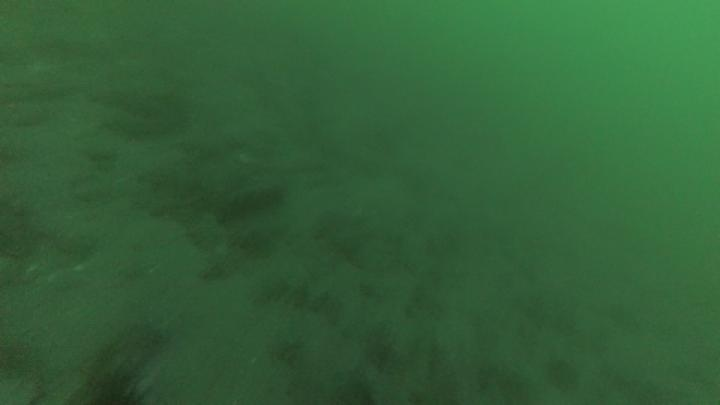echinus: (72, 357, 156, 405), (544, 356, 582, 395)
holothurian: (249, 275, 342, 316), (214, 180, 287, 222)
